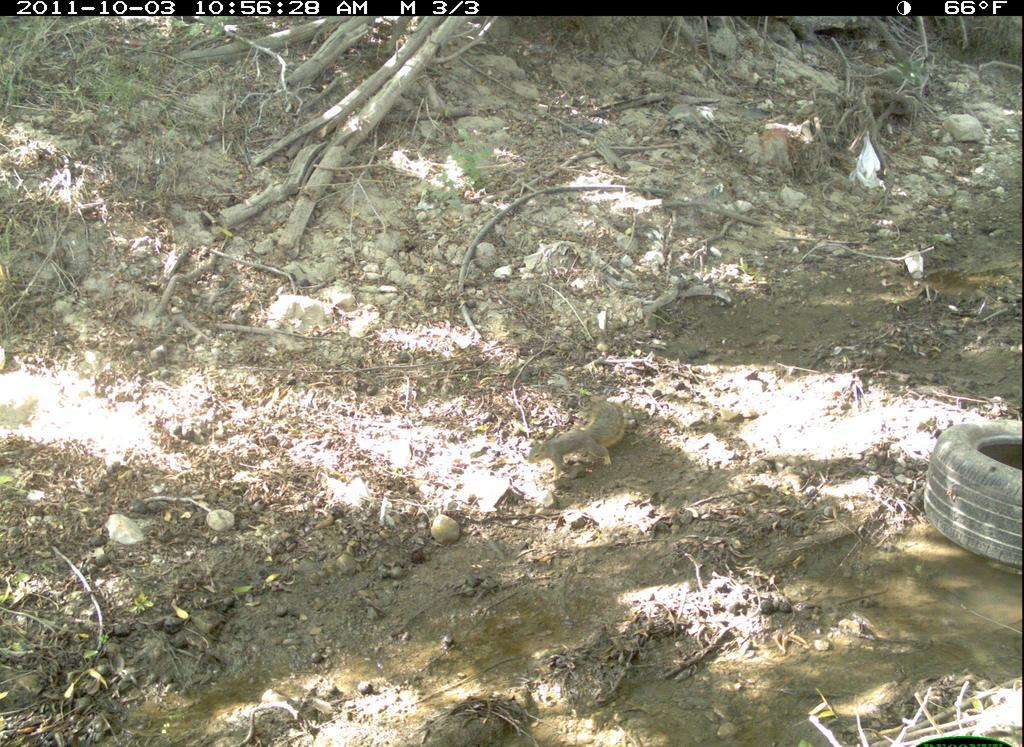squirrel: (516, 379, 644, 489)
